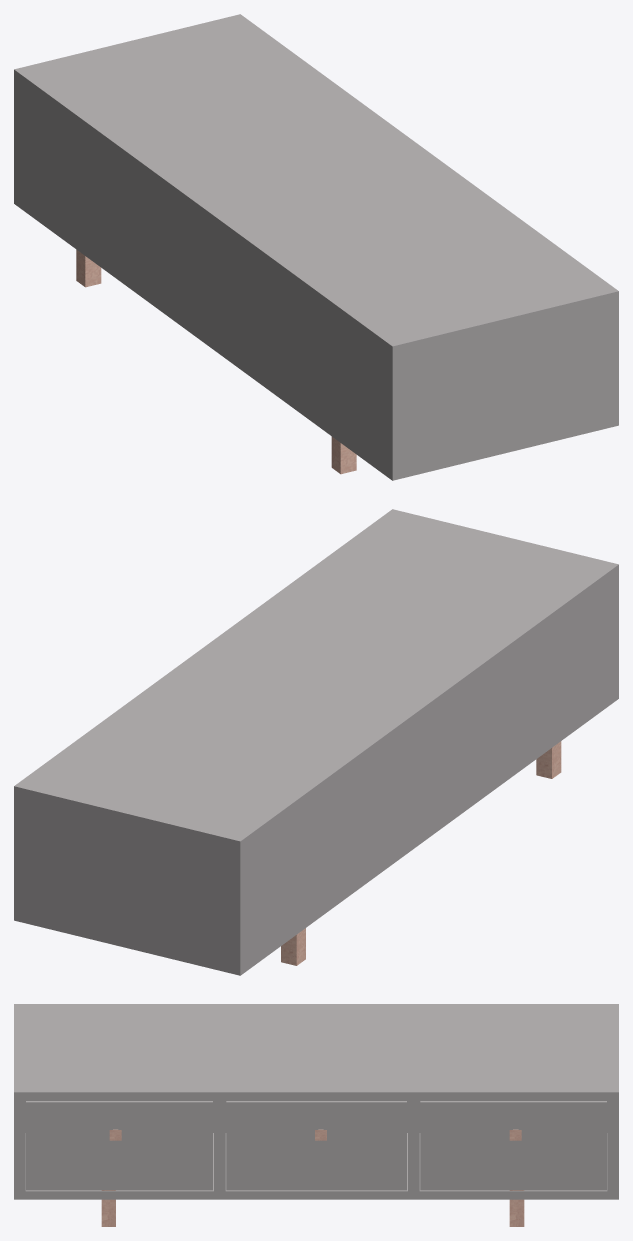
3 views of the same model, one above another, from view 1: azimuth 30°, elevation 25°; view 2: azimuth 150°, elevation 25°; view 3: azimuth 270°, elevation 25° (orthographic). The views are drawn at different scales.
Visible parts, largest first — view 1: group1 pCube64, group1 pCube68, group1 pCube67; view 2: group1 pCube64, group1 pCube68, group1 pCube67; view 3: group1 pCube64, group1 pCube69, group1 pCube71, group1 pCube70, group1 pCube66, pCube65 group1.
Part boxes in pixels (bbox=[...]): group1 pCube64: bbox=[14, 14, 618, 480]; group1 pCube68: bbox=[331, 436, 356, 474]; group1 pCube67: bbox=[76, 249, 101, 287]; group1 pCube64: bbox=[14, 509, 618, 975]; group1 pCube68: bbox=[536, 741, 561, 778]; group1 pCube67: bbox=[281, 928, 305, 965]; group1 pCube64: bbox=[14, 1004, 618, 1199]; group1 pCube69: bbox=[26, 1101, 212, 1190]; group1 pCube71: bbox=[420, 1101, 606, 1190]; group1 pCube70: bbox=[226, 1101, 406, 1190]; group1 pCube66: bbox=[509, 1190, 524, 1226]; pCube65 group1: bbox=[101, 1190, 115, 1226].
Size of the model in its own units: 78.74 by 54.1 by 220.
2 materials, 2 textured.
